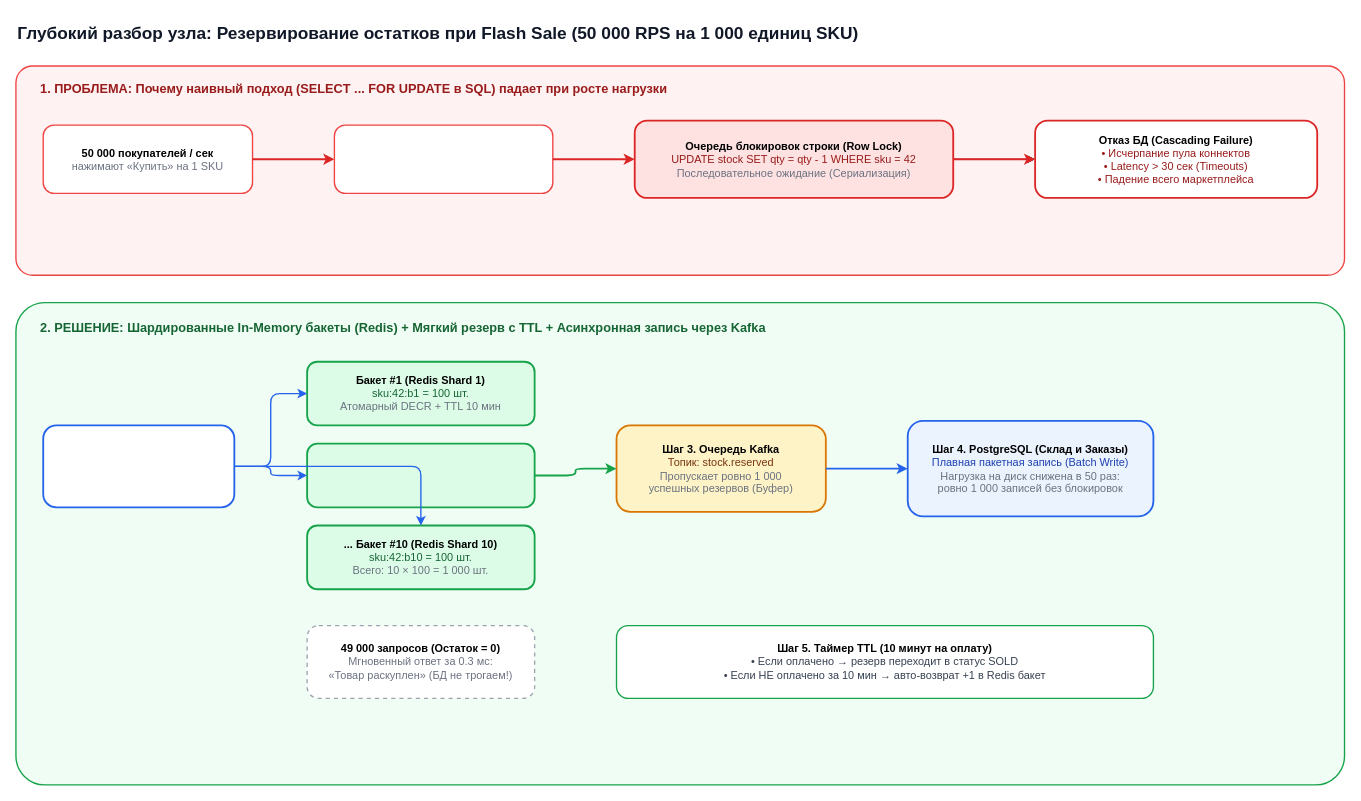
This 1361x801 diagram has some shape labels left out. Each missing label, with the centre of its shape:
Бакет #2 (Redis Shard 2) sku:42:b2 = 100 шт. Атомарный DECR + TTL 10 мин: the point at 420,475
Сервис склада (Инстансы) Открывают 50 000 транзакций: the point at 443,159
Шаг 1. API Gateway Rate Limiter + Anti-Bot Хеширование по user_id: the point at 138,466
